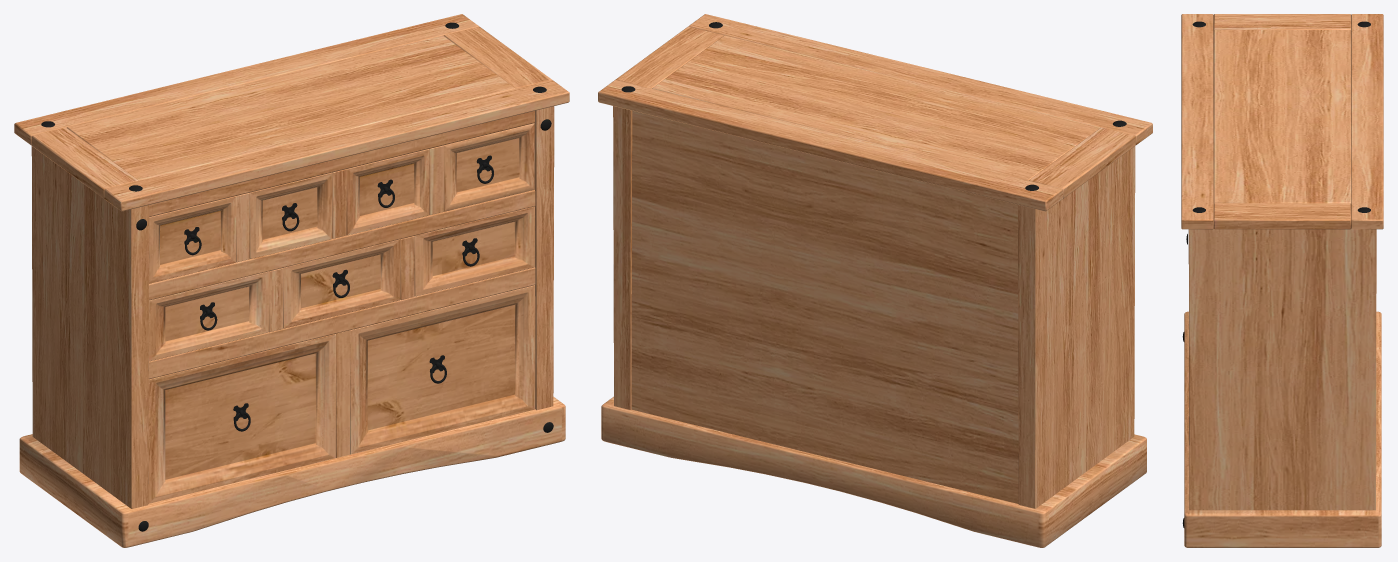
The picture shows the model from 3 angles, left to right: view 1: azimuth 30°, elevation 25°; view 2: azimuth 150°, elevation 25°; view 3: azimuth 270°, elevation 25°; orthographic projection. The views are drawn at different scales.
Parts seen in each view (by area): view 1: B00838756S; view 2: B00838756S; view 3: B00838756S.
Boxes of the visible parts, x1=… form: B00838756S: x1=14, y1=14, x2=569, y2=547; B00838756S: x1=598, y1=14, x2=1152, y2=547; B00838756S: x1=1181, y1=14, x2=1383, y2=547.
Bounding box in the file's own units: 0.99 × 0.7399 × 0.41.
Materials: 1 (1 with a texture image).
